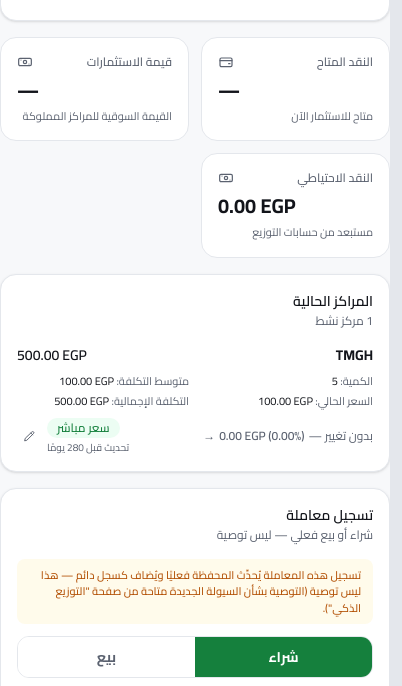
PortfolioPage transaction form › shows the available quantity hint for SELL from the already-loaded portfolio summary
This screenshot has width=402, height=686.
Click the button "بيع" at x=106, y=657, box top-left (18, 637), bottom-right (195, 677)
(page scrolled)
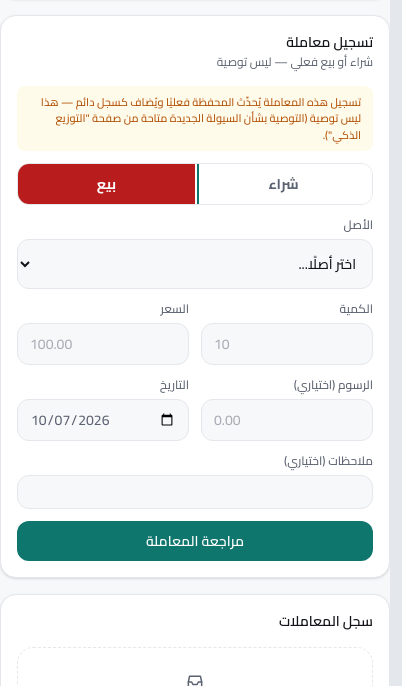
Select "TMGH — Talaat Moustafa" in the dropdown at x=195, y=264, box top-left (17, 239), bottom-right (373, 289)
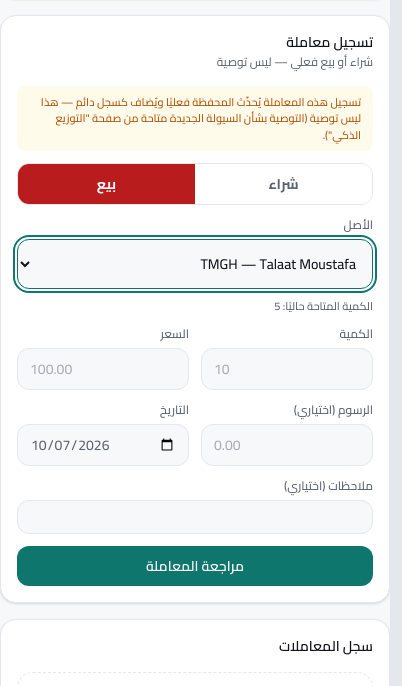
Now the text "الكمية المتاحة حاليًا: 5" is shown, box top-left (274, 296), bottom-right (373, 316)
